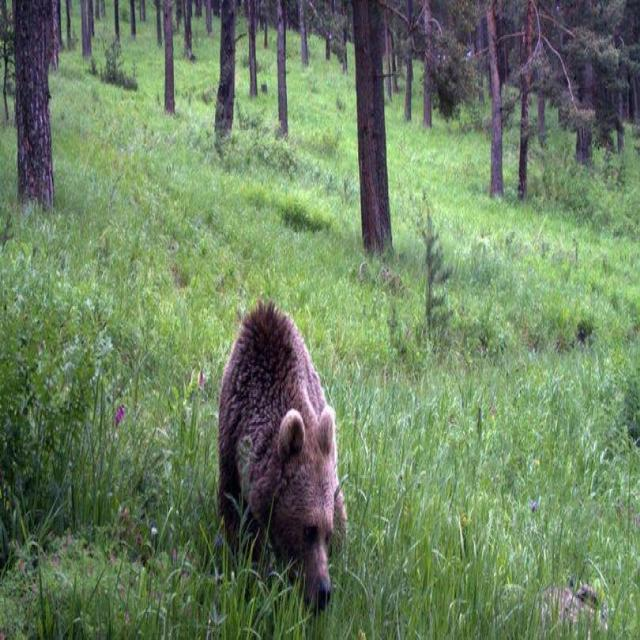Bear: (216, 303, 349, 613)
